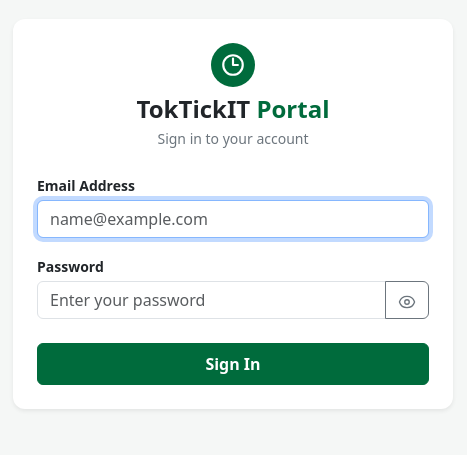
Test: Login Screen & Authentication Tests (Lab 3) › UI-03: displays safe error banner 'Invalid email or password. Please try again.' on INVALID_CREDENTIALS
In the field labelled "Email Address": (233, 219) 37,200 -> 429,238, type "bob@example.com"
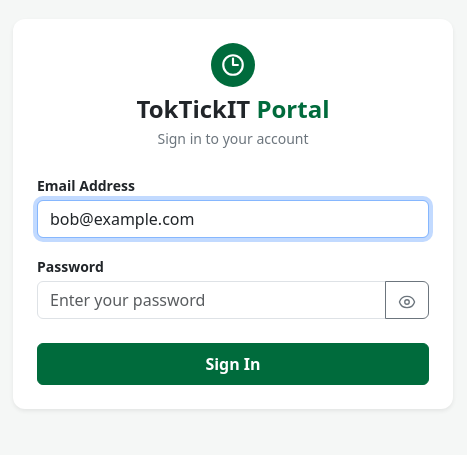
In the password field labelled "Password": (212, 300) 37,281 -> 386,319, type "WrongPassword!"
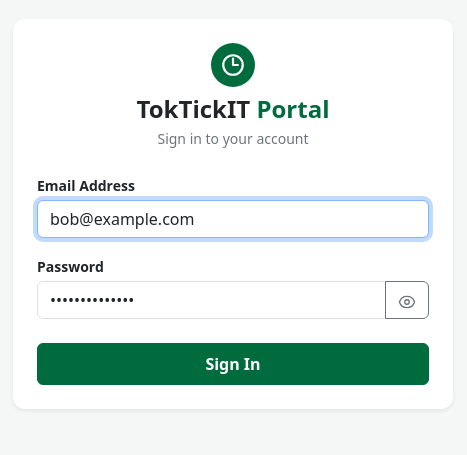
Click the button "Sign In": (233, 364) 37,343 -> 429,385
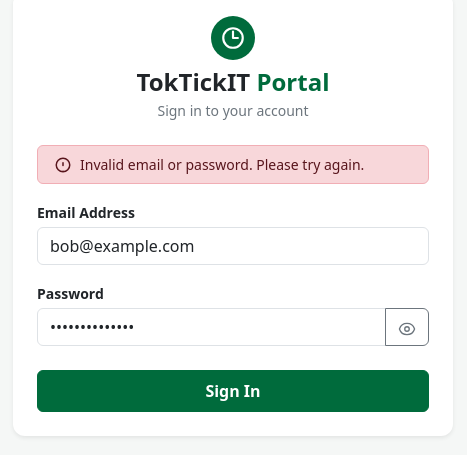
Result: the text "Invalid email or password. Please try again." is shown at 80,154 -> 364,175
